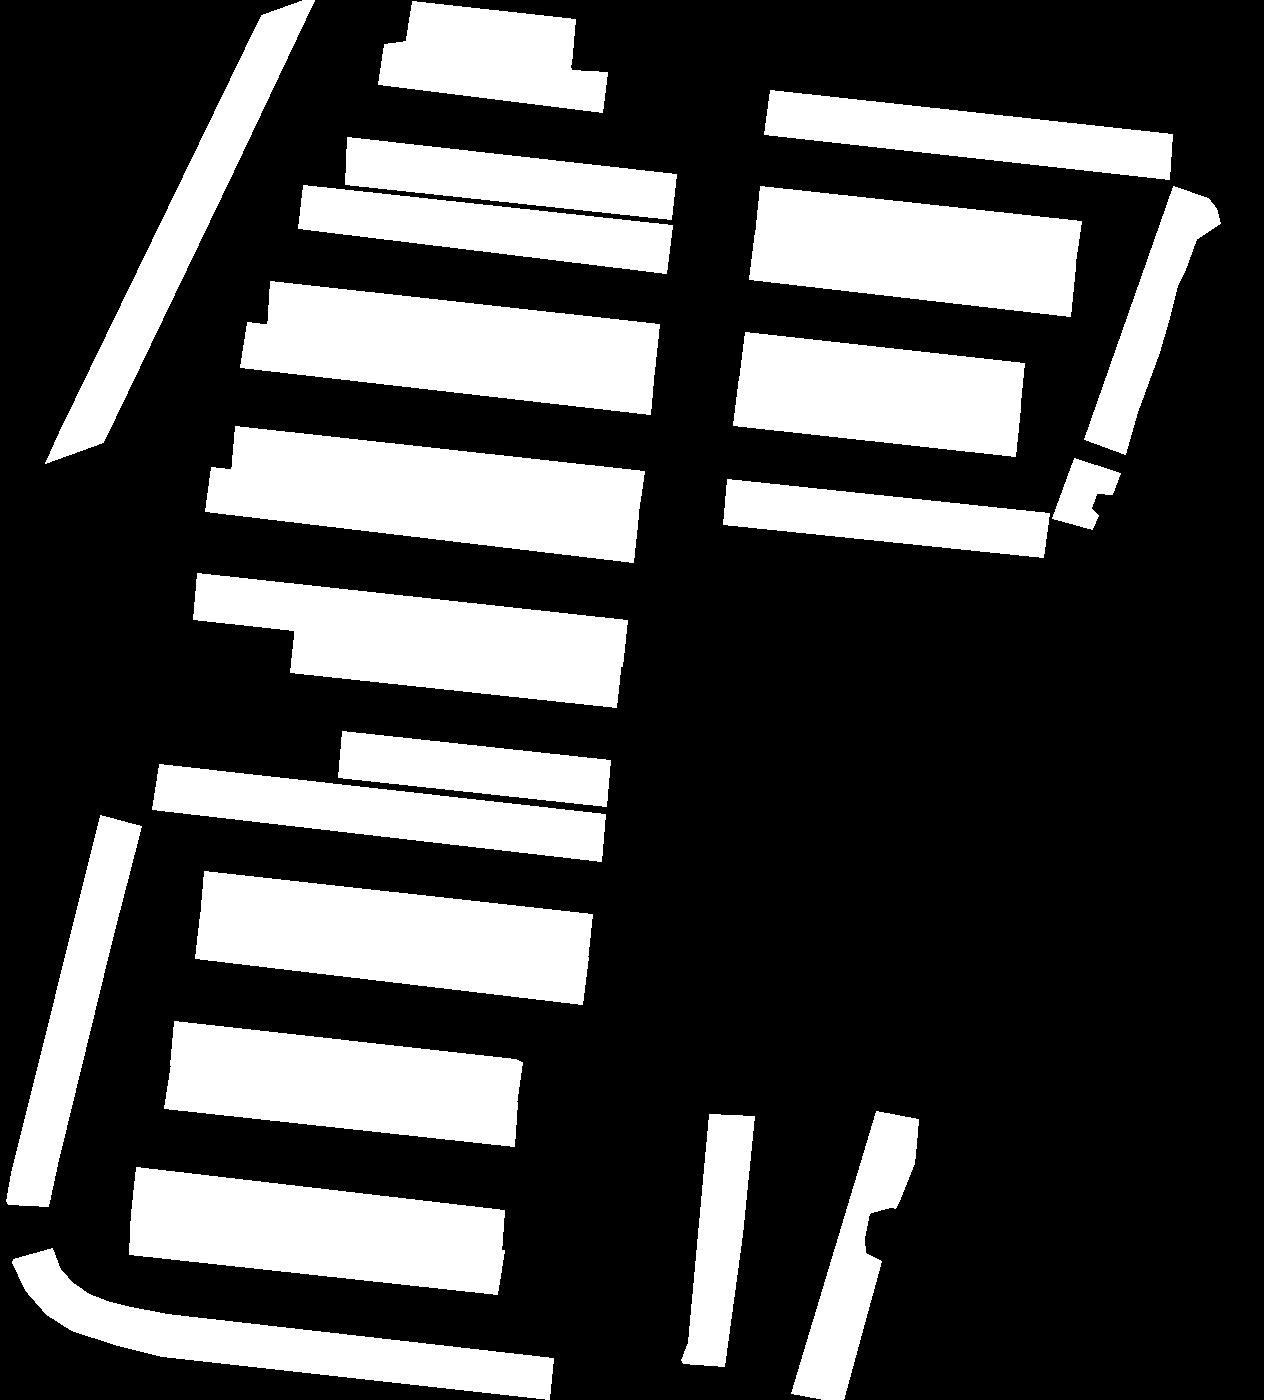parkingspot: (45, 0, 314, 463), (12, 1248, 553, 1399), (6, 815, 142, 1206), (153, 763, 605, 861), (205, 467, 638, 562), (193, 573, 627, 666), (231, 426, 644, 520), (240, 322, 654, 413), (791, 1111, 917, 1400), (1083, 187, 1220, 454), (764, 90, 1172, 179), (195, 913, 588, 1004), (267, 280, 659, 371), (200, 871, 592, 960), (298, 185, 672, 273), (129, 1209, 504, 1294), (131, 1167, 504, 1252), (163, 1063, 517, 1146), (170, 1021, 522, 1104), (749, 230, 1075, 316), (345, 137, 676, 220), (290, 624, 621, 707), (755, 187, 1081, 270), (724, 479, 1049, 557), (733, 376, 1020, 456), (739, 332, 1024, 412), (338, 730, 610, 806), (681, 1113, 754, 1366), (378, 41, 608, 112), (405, 1, 575, 63), (1052, 459, 1120, 529)
